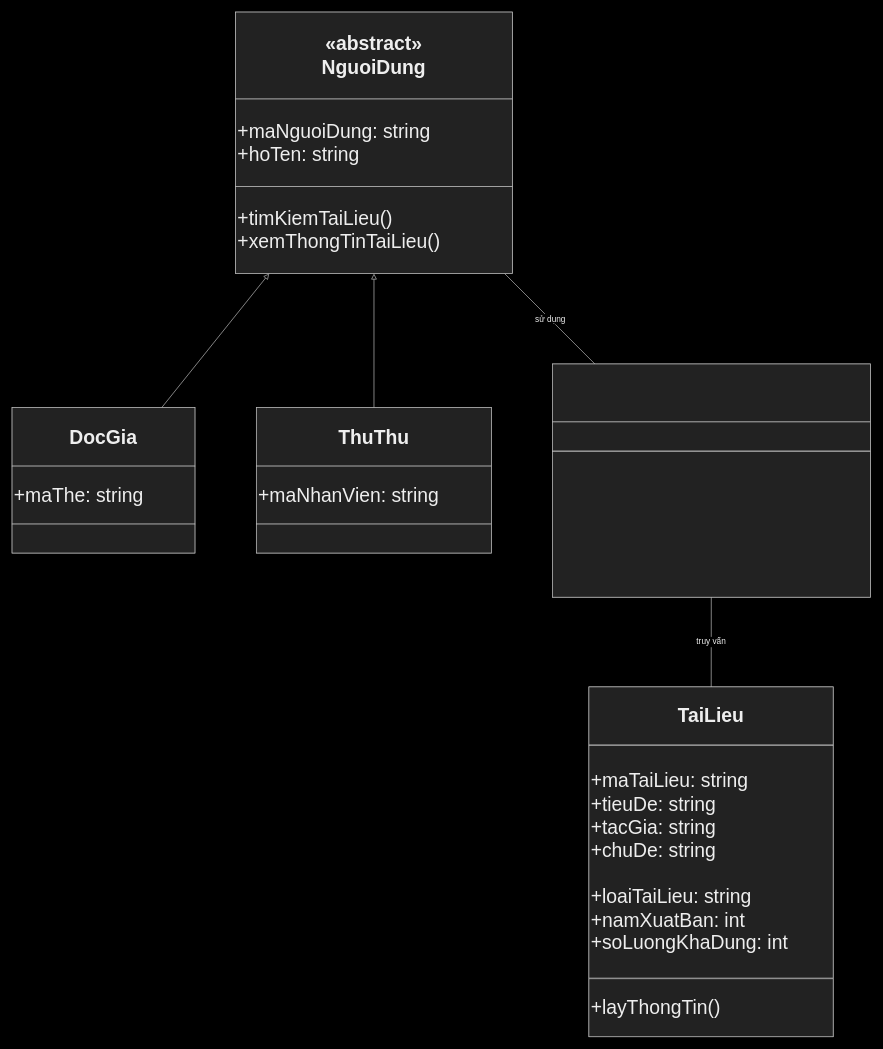
Image size: 883x1049. Some labels were removed from this diagram. The box of each missing label's shape, as (x1, y1, x2, y2) in pixels:
+timTheoTuKhoa(tuKhoa) +timTheoLoai(loai) +timTheoNam(nam) +kiemTraDieuKien(): (552, 451, 870, 597)
TimKiemService: (552, 363, 870, 422)
